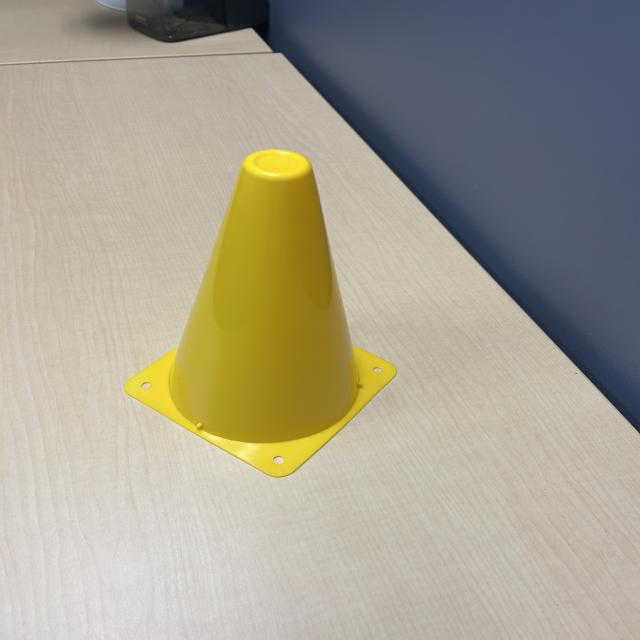yellow cone: (122, 137, 402, 482)
